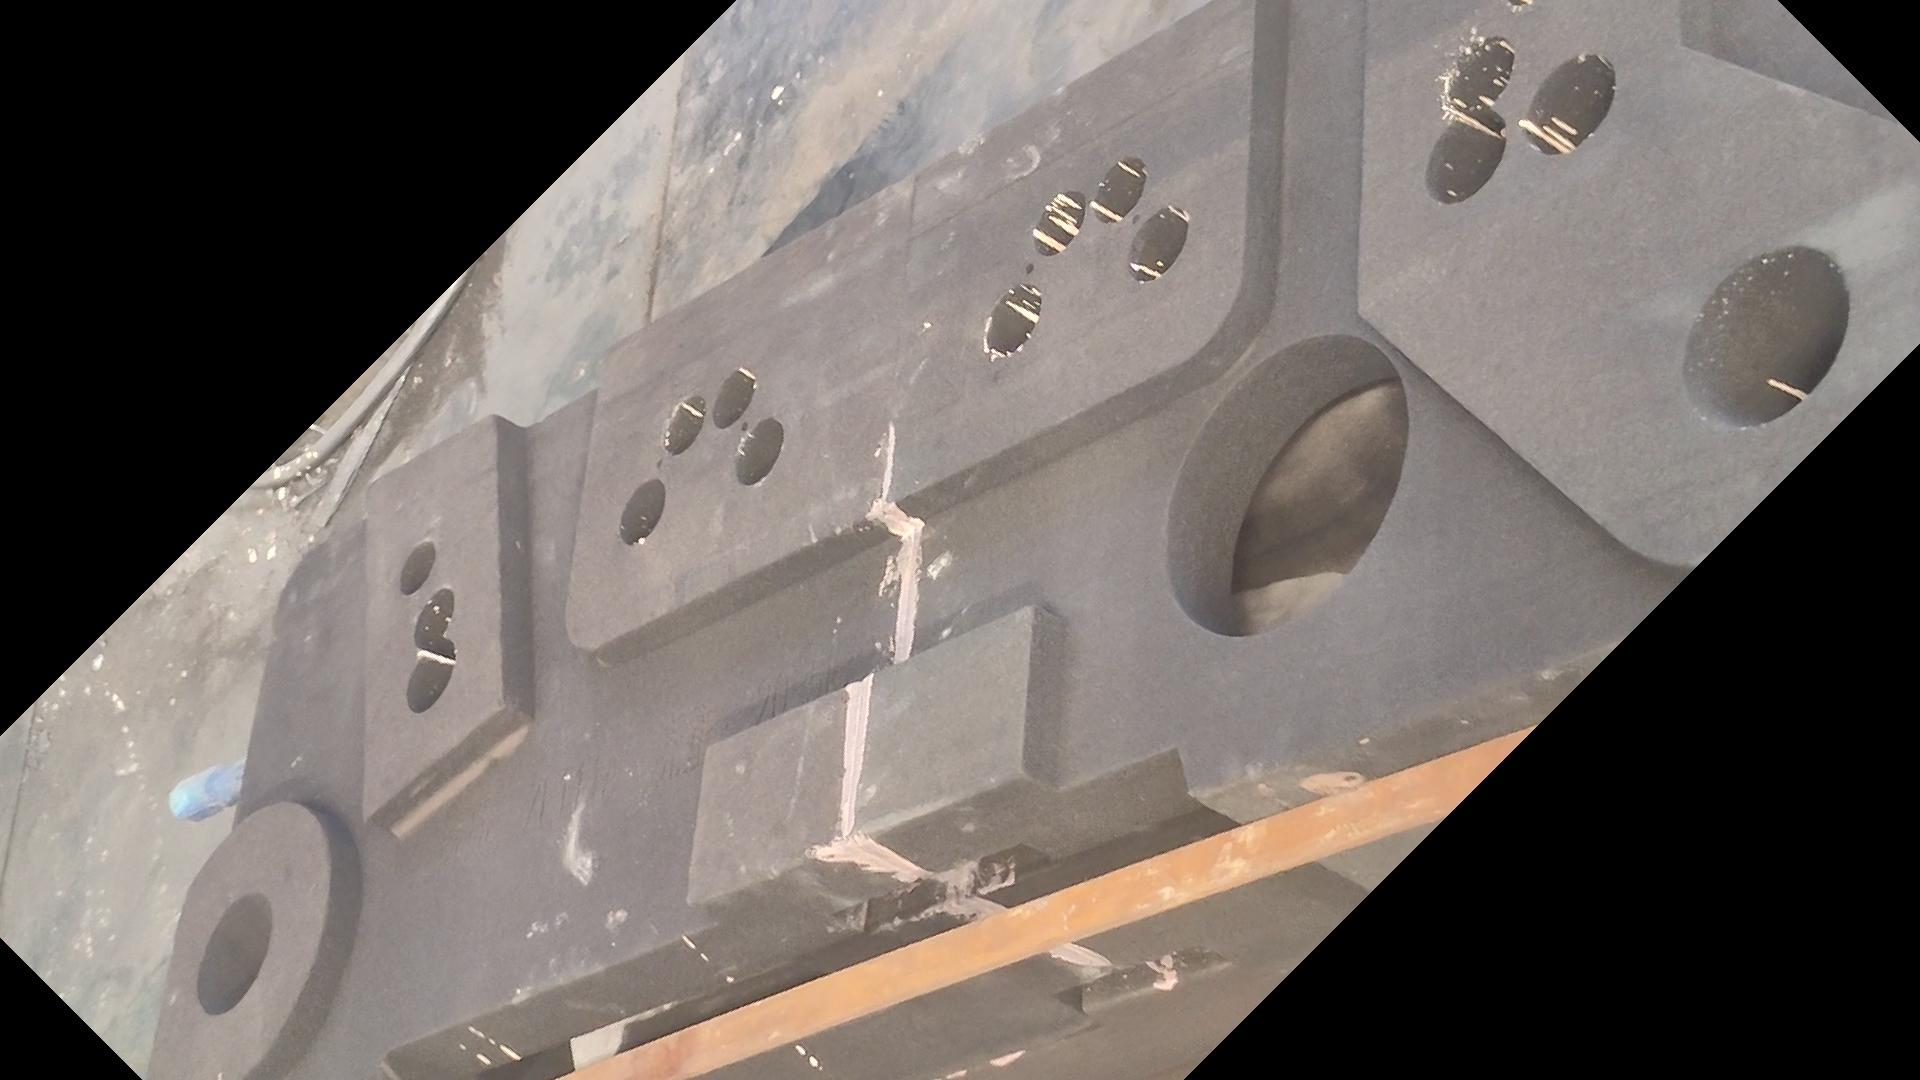pouring hole: (1677, 245, 1853, 431), (193, 891, 273, 1017)
